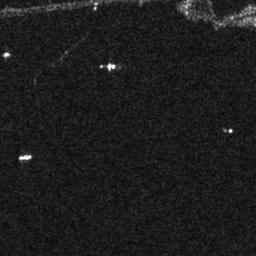ship: (19, 153, 32, 161), (106, 63, 116, 71)
